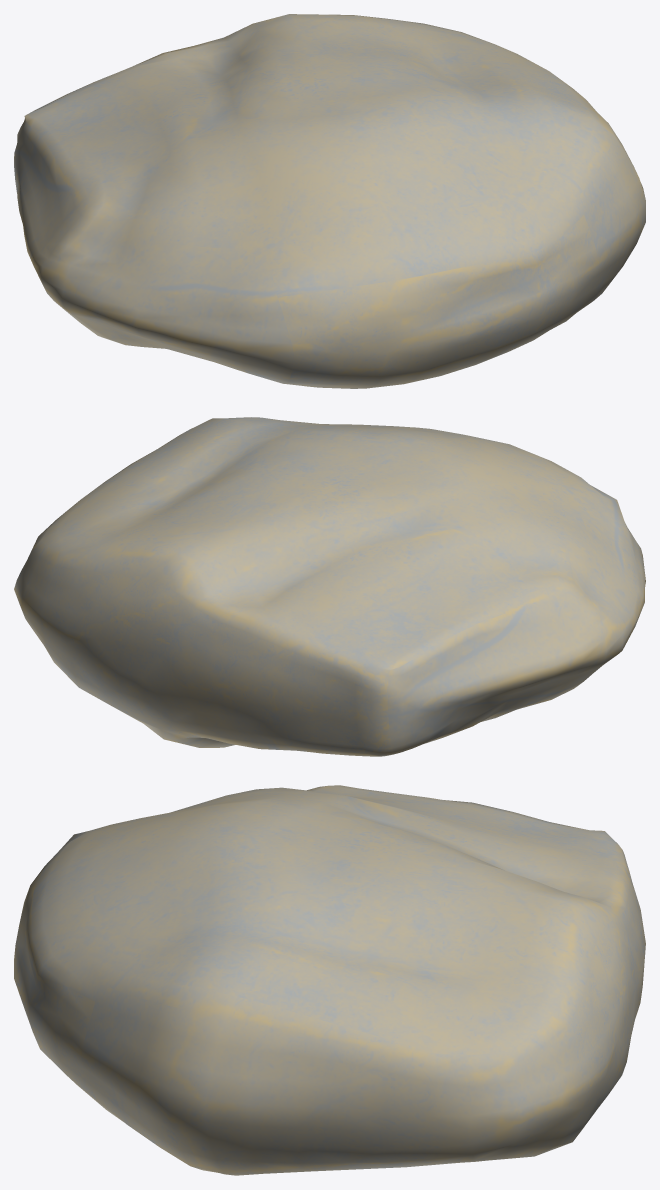
The model's file is MediumRock_01.fbx.
3 views of the same model, one above another, from view 1: azimuth 30°, elevation 25°; view 2: azimuth 150°, elevation 25°; view 3: azimuth 270°, elevation 25° (orthographic). The views are drawn at different scales.
Visible parts, largest first — view 1: medium_rock_lopoly:Group17602; view 2: medium_rock_lopoly:Group17602; view 3: medium_rock_lopoly:Group17602.
Part boxes in pixels (left/top/right/bottom): medium_rock_lopoly:Group17602: left=14, top=14, right=645, bottom=388; medium_rock_lopoly:Group17602: left=14, top=417, right=645, bottom=756; medium_rock_lopoly:Group17602: left=14, top=785, right=645, bottom=1175.
Size of the model in its own units: 11.55 by 5.19 by 10.53.
